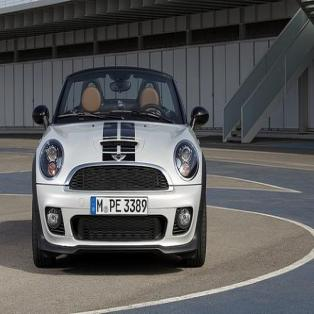Auto: (32, 67, 209, 267)
